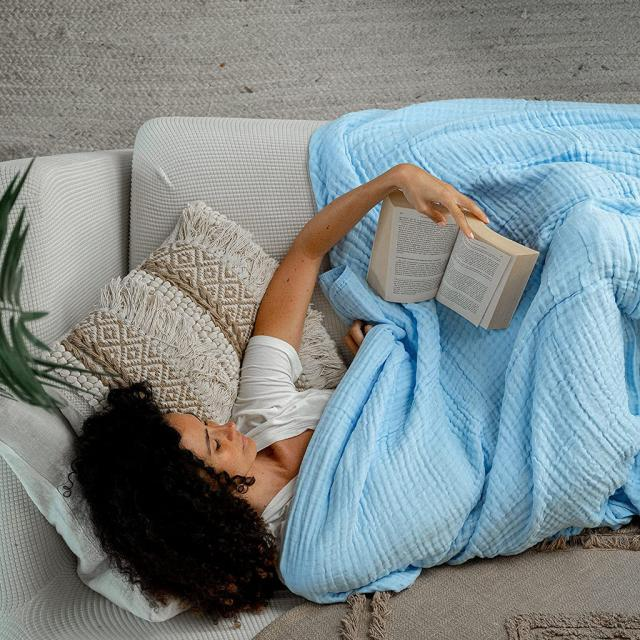blanket: (280, 100, 640, 602)
